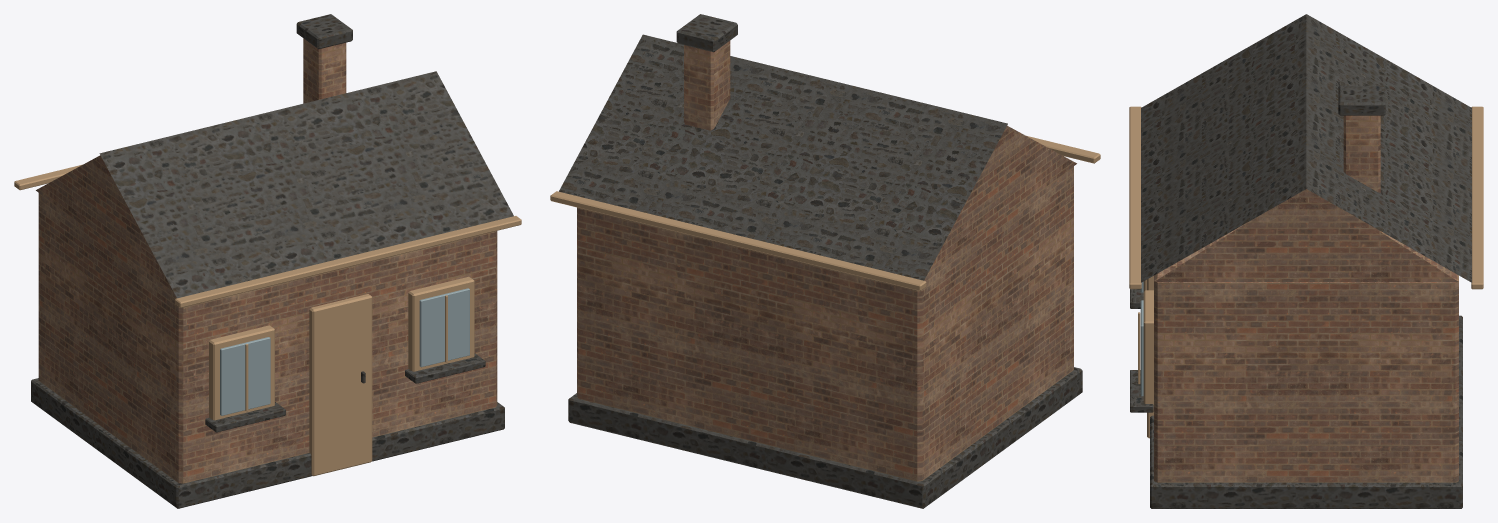
The model's file is house-natural.glb.
The picture shows the model from 3 angles, left to right: view 1: azimuth 30°, elevation 25°; view 2: azimuth 150°, elevation 25°; view 3: azimuth 270°, elevation 25°; orthographic projection. The views are drawn at different scales.
Parts seen in each view (by area): view 1: house-natural; view 2: house-natural; view 3: house-natural.
Part boxes in pixels (left/top/right/bottom): house-natural: left=14, top=14, right=521, bottom=508; house-natural: left=550, top=14, right=1100, bottom=508; house-natural: left=1129, top=14, right=1483, bottom=508.
Bounding box in the file's own units: 4.08 × 4 × 3.44.
4 materials, 2 textured.
